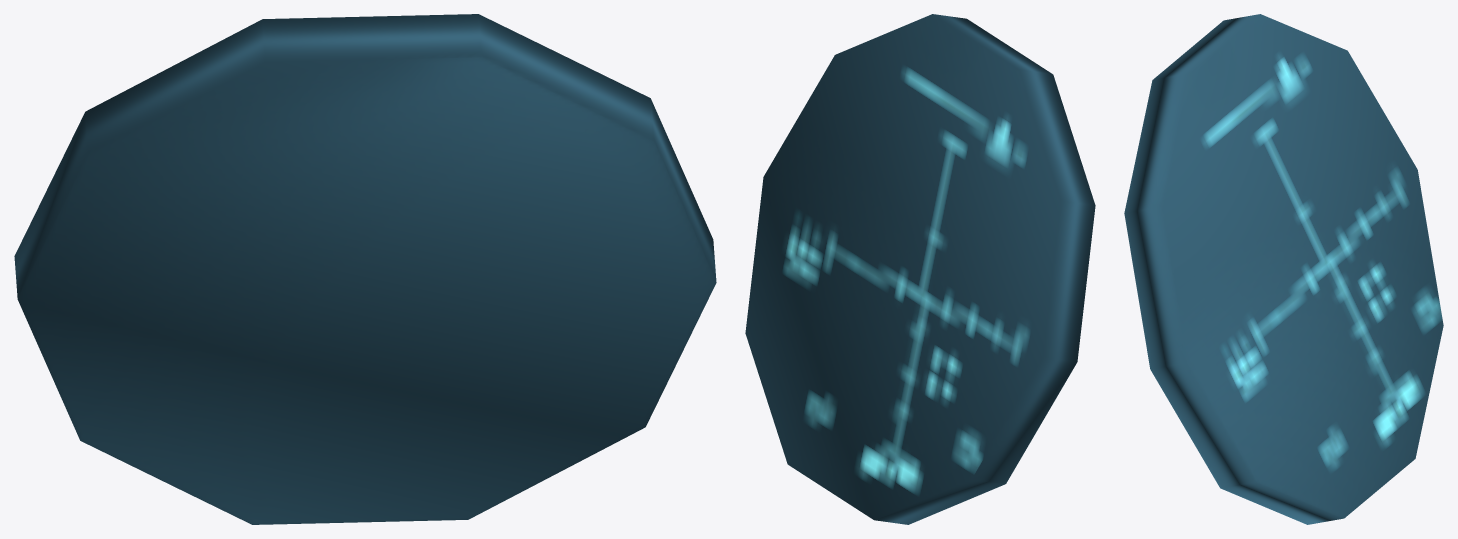
File: Vital_part1.gltf
3 renders of one model, left to right at view 1: azimuth 30°, elevation 25°; view 2: azimuth 150°, elevation 25°; view 3: azimuth 270°, elevation 25°, orthographic. The views are drawn at different scales.
Parts seen in each view (by area): view 1: pCylinder9; view 2: pCylinder9; view 3: pCylinder9.
Boxes of the visible parts, x1,y1,x2,y2 form: pCylinder9: [14, 14, 716, 524]; pCylinder9: [745, 14, 1095, 524]; pCylinder9: [1124, 14, 1443, 524].
Size of the model in its own units: 0.6076 by 0.6003 by 0.4078.
1 material, 1 textured.
